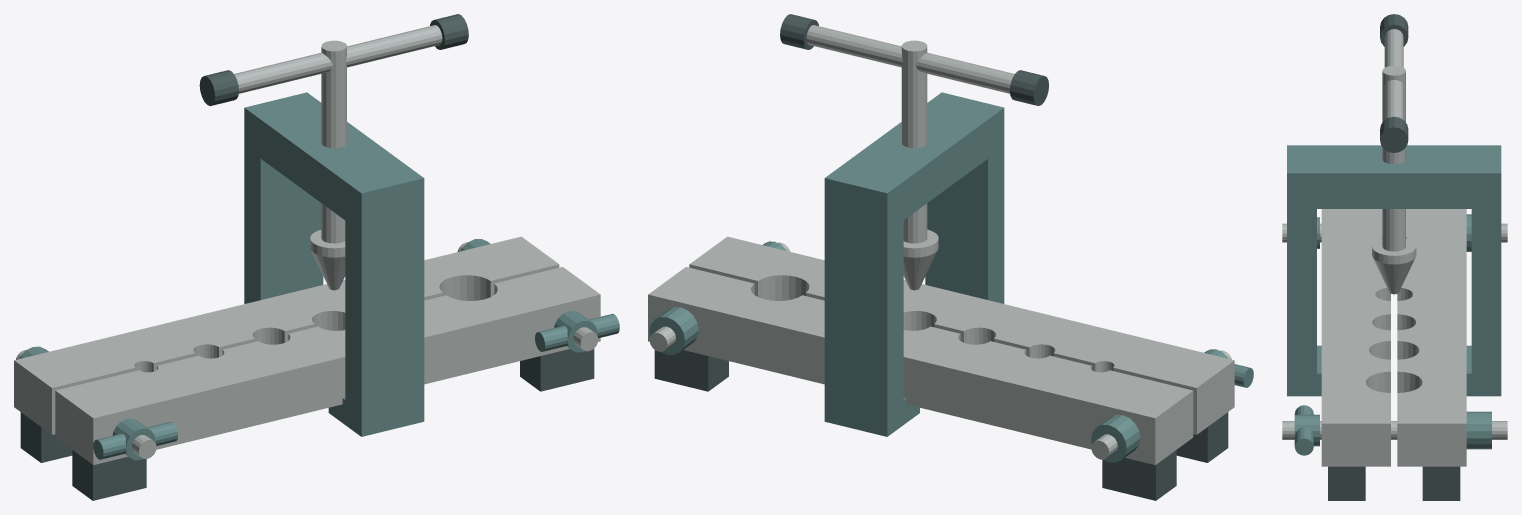
3 views of the same model, side by side, from view 1: azimuth 30°, elevation 25°; view 2: azimuth 150°, elevation 25°; view 3: azimuth 270°, elevation 25° (orthographic). The views are drawn at different scales.
Visible parts, largest first — view 1: WholeCapturedOpenYoke, WholeSixNotchClampingBar-1, WholeSixNotchClampingBar1, WholeUpperTransverseHandle, WholeFixedVerticalFeedSpindle, WholeFiniteRestFoot(-1, -0.15), WholeFiniteRestFoot(-1, 0.15), WholeFiniteRestFoot(1, -0.15), WholeBluntRaisedFormingCone, WholeTwoSidedClampGrip-0.148, WholeTwoSidedClampGrip0.148, WholeTHandleEnd-0.059 (+3 smaller); view 2: WholeCapturedOpenYoke, WholeSixNotchClampingBar1, WholeSixNotchClampingBar-1, WholeUpperTransverseHandle, WholeFixedVerticalFeedSpindle, WholeFiniteRestFoot(1, -0.15), WholeFiniteRestFoot(1, 0.15), WholeFiniteRestFoot(-1, -0.15), WholeBluntRaisedFormingCone, WholeFixedRearClampCap-0.148, WholeFixedRearClampCap0.148, WholeTHandleEnd-0.059 (+1 smaller); view 3: WholeCapturedOpenYoke, WholeSixNotchClampingBar-1, WholeSixNotchClampingBar1, WholeFixedVerticalFeedSpindle, WholeBluntRaisedFormingCone, WholeUpperTransverseHandle, WholeFiniteRestFoot(1, 0.15), WholeFiniteRestFoot(-1, 0.15), WholeFixedRearClampCap0.148, WholeTHandleEnd0.095, WholeCrossClampRod0.148, WholeTwoSidedClampGrip0.148 (+3 smaller).
Part boxes in pixels (x1,y1,x2,y2): WholeCapturedOpenYoke: [244, 92, 424, 436]; WholeSixNotchClampingBar-1: [55, 267, 600, 464]; WholeSixNotchClampingBar1: [14, 236, 559, 434]; WholeUpperTransverseHandle: [234, 25, 442, 93]; WholeFixedVerticalFeedSpindle: [321, 40, 346, 243]; WholeFiniteRestFoot(-1, -0.15): [72, 450, 146, 500]; WholeFiniteRestFoot(-1, 0.15): [520, 348, 594, 391]; WholeFiniteRestFoot(1, -0.15): [20, 412, 72, 462]; WholeBluntRaisedFormingCone: [310, 230, 345, 290]; WholeTwoSidedClampGrip-0.148: [93, 421, 177, 459]; WholeTwoSidedClampGrip0.148: [535, 313, 619, 351]; WholeTHandleEnd-0.059: [199, 70, 238, 105]; WholeCapturedOpenYoke: [824, 92, 1004, 436]; WholeSixNotchClampingBar1: [648, 267, 1193, 464]; WholeSixNotchClampingBar-1: [689, 236, 1234, 434]; WholeUpperTransverseHandle: [806, 25, 1014, 93]; WholeFixedVerticalFeedSpindle: [901, 40, 927, 243]; WholeFiniteRestFoot(1, -0.15): [1102, 450, 1176, 500]; WholeFiniteRestFoot(1, 0.15): [654, 350, 728, 391]; WholeFiniteRestFoot(-1, -0.15): [1176, 412, 1228, 462]; WholeBluntRaisedFormingCone: [903, 229, 938, 290]; WholeFixedRearClampCap-0.148: [1091, 414, 1140, 462]; WholeFixedRearClampCap0.148: [649, 307, 698, 354]; WholeTHandleEnd-0.059: [1009, 70, 1048, 105]; WholeCapturedOpenYoke: [1287, 145, 1501, 396]; WholeSixNotchClampingBar-1: [1321, 209, 1390, 466]; WholeSixNotchClampingBar1: [1397, 209, 1466, 466]; WholeFixedVerticalFeedSpindle: [1382, 65, 1405, 251]; WholeBluntRaisedFormingCone: [1372, 239, 1416, 294]; WholeUpperTransverseHandle: [1384, 29, 1403, 119]; WholeFiniteRestFoot(1, 0.15): [1422, 466, 1460, 500]; WholeFiniteRestFoot(-1, 0.15): [1328, 466, 1365, 500]; WholeFixedRearClampCap0.148: [1466, 411, 1491, 449]; WholeTHandleEnd0.095: [1380, 116, 1408, 152]; WholeCrossClampRod0.148: [1282, 421, 1507, 439]; WholeTwoSidedClampGrip0.148: [1294, 405, 1313, 455].
Size of the model in its own units: 0.346 by 0.231 by 0.143.
